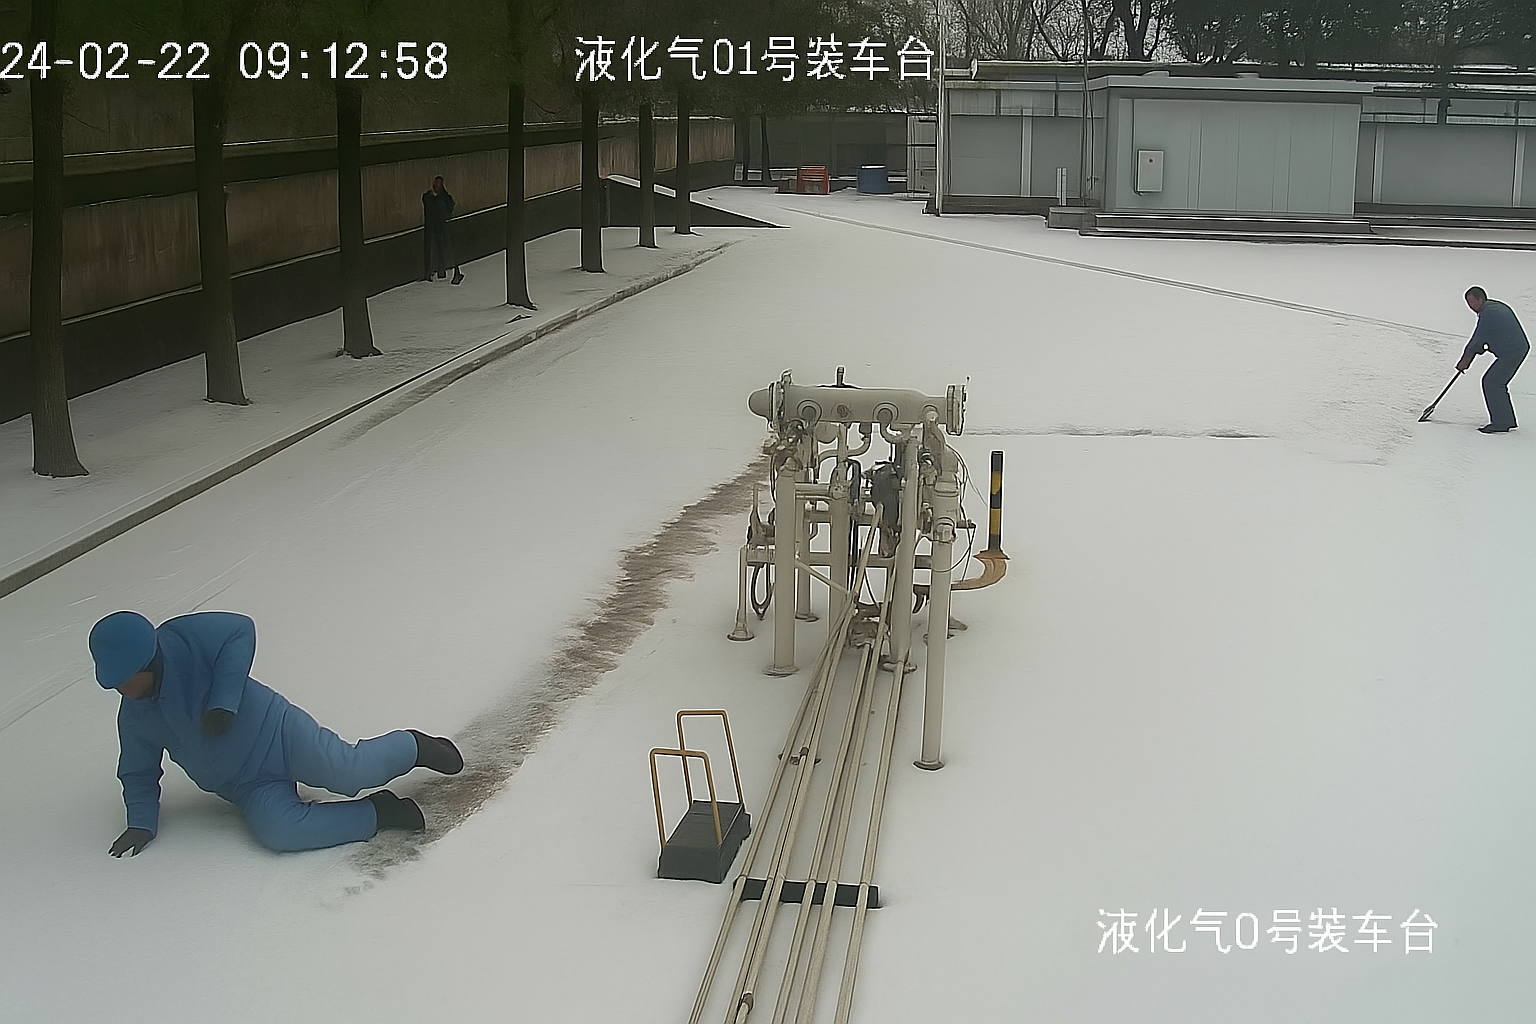trip: (50, 581, 477, 872)
